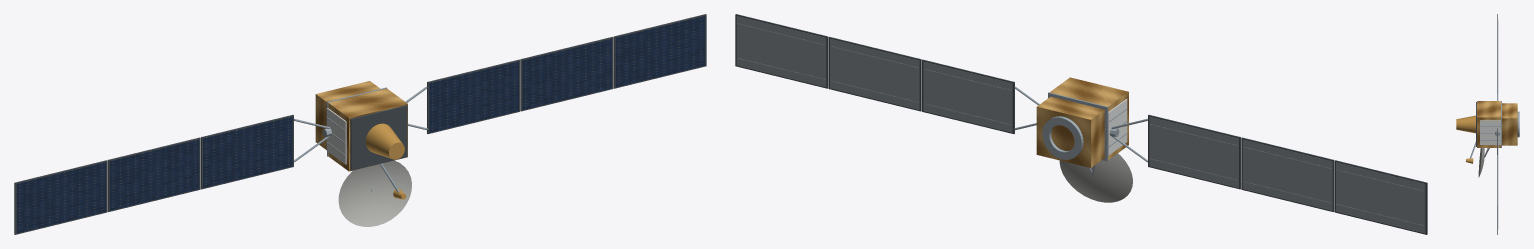
Rendered from ref-as3000-14985.glb.
The picture shows the model from 3 angles, left to right: view 1: azimuth 30°, elevation 25°; view 2: azimuth 150°, elevation 25°; view 3: azimuth 270°, elevation 25°; orthographic projection. The views are drawn at different scales.
Parts seen in each view (by area): view 1: Solar cell panel (×6), Solar panel frame (×6), Communications reflector, Earth-facing deck, Payload module, Service module, Axial antenna horn, Radiator face; view 2: Rear array substrate (×6), Solar panel frame (×6), Service module, Communications reflector, Payload module, Launch adapter ring, Radiator face, Module interface; view 3: Service module, Payload module, Radiator face, Axial antenna horn, Communications reflector, Launch adapter ring, Solar panel frame, Module interface.
Part boxes in pixels (x1,y1,x2,y2): Solar cell panel (×6): (16,16,705,233); Solar panel frame (×6): (14,14,706,234); Communications reflector: (338,160,411,226); Earth-facing deck: (350,105,407,170); Payload module: (328,88,407,171); Service module: (315,81,380,149); Axial antenna horn: (365,123,404,159); Radiator face: (326,108,346,164); Rear array substrate (×6): (736,16,1425,233); Solar panel frame (×6): (735,14,1427,234); Service module: (1036,96,1104,167); Communications reflector: (1059,153,1132,202); Payload module: (1050,77,1128,159); Launch adapter ring: (1042,116,1083,159); Radiator face: (1108,99,1127,155); Module interface: (1048,92,1108,161); Service module: (1502,103,1517,145); Payload module: (1477,101,1500,147); Radiator face: (1480,120,1501,144); Axial antenna horn: (1456,115,1475,133); Communications reflector: (1478,148,1484,177); Launch adapter ring: (1517,111,1519,137); Solar panel frame: (1497,180,1497,234); Module interface: (1501,101,1501,147).
Bounding box in the file's own units: 15.28 × 2.46 × 2.14.
8 materials, 2 textured.
